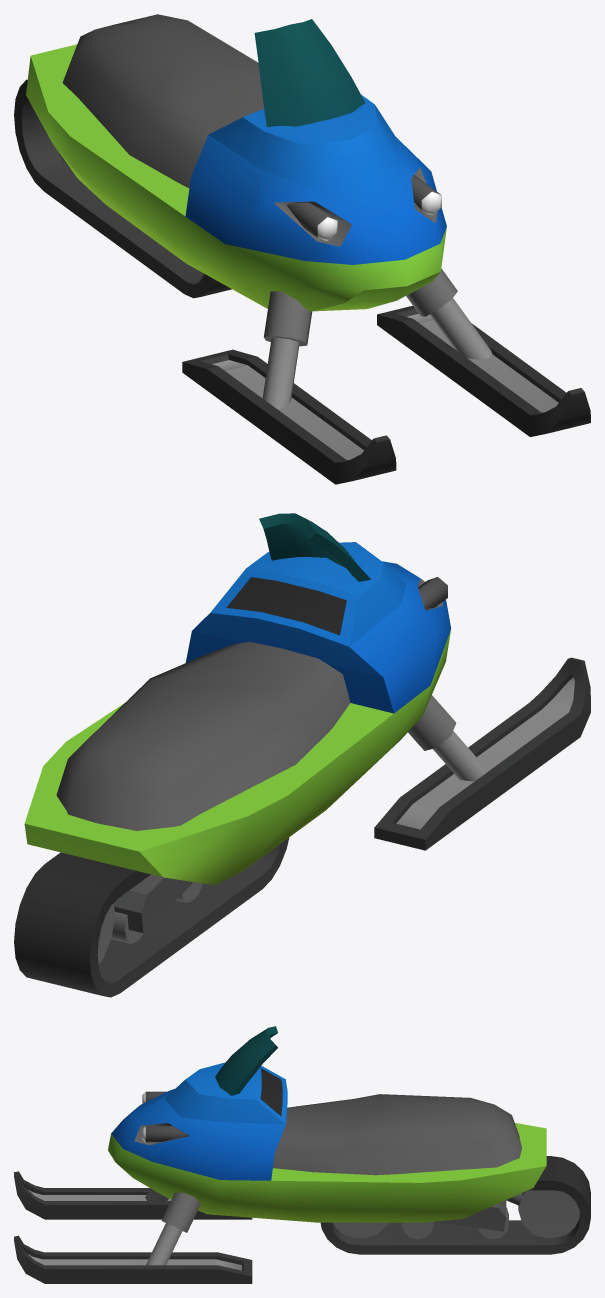
The model's file is snowmobile_003.fbx.
3 views of the same model, one above another, from view 1: azimuth 30°, elevation 25°; view 2: azimuth 150°, elevation 25°; view 3: azimuth 270°, elevation 25° (orthographic). The views are drawn at different scales.
Parts seen in each view (by area): view 1: snowmobile_003; view 2: snowmobile_003; view 3: snowmobile_003.
Part boxes in pixels (box(x1,y1,x2,y2)): snowmobile_003: box(14, 14, 590, 484); snowmobile_003: box(14, 513, 590, 997); snowmobile_003: box(14, 1026, 590, 1283).
Size of the model in its own units: 125 by 375 by 152.
